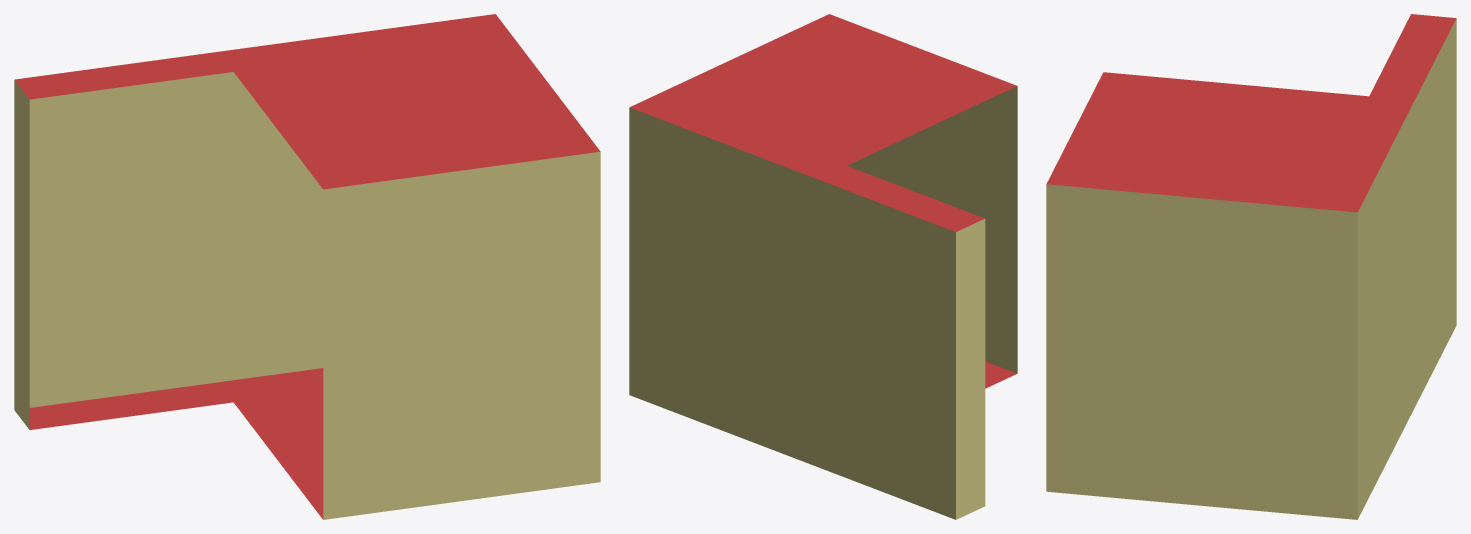
The picture shows the model from 3 angles, left to right: view 1: azimuth 30°, elevation 25°; view 2: azimuth 150°, elevation 25°; view 3: azimuth 270°, elevation 25°; orthographic projection. The views are drawn at different scales.
Size of the model in its own units: 7.59 by 6.62 by 5.48.
